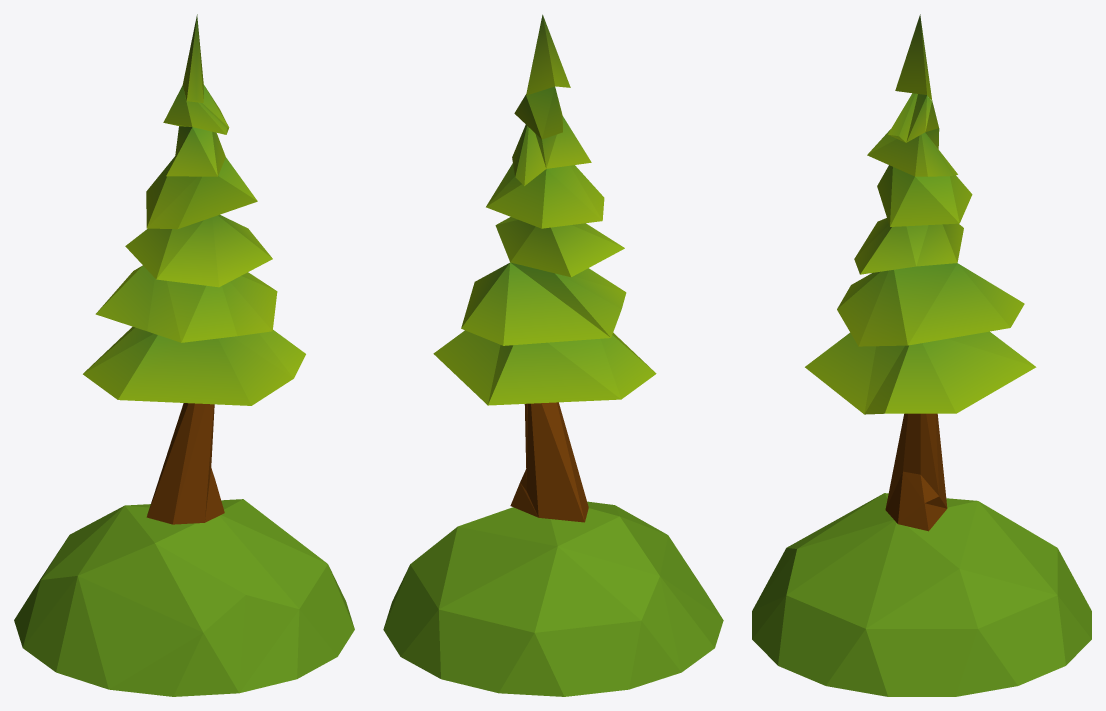
Rendered from sf_tree_13_lod.glb.
The picture shows the model from 3 angles, left to right: view 1: azimuth 30°, elevation 25°; view 2: azimuth 150°, elevation 25°; view 3: azimuth 270°, elevation 25°; orthographic projection.
Parts seen in each view (by area): view 1: Cylinder_Material.001_0; view 2: Cylinder_Material.001_0; view 3: Cylinder_Material.001_0.
Boxes of the visible parts, left/top/right/bottom form: Cylinder_Material.001_0: left=14, top=14, right=354, bottom=696; Cylinder_Material.001_0: left=383, top=14, right=723, bottom=696; Cylinder_Material.001_0: left=752, top=14, right=1091, bottom=696.
Bounding box in the file's own units: 3.99 × 8 × 3.99.
